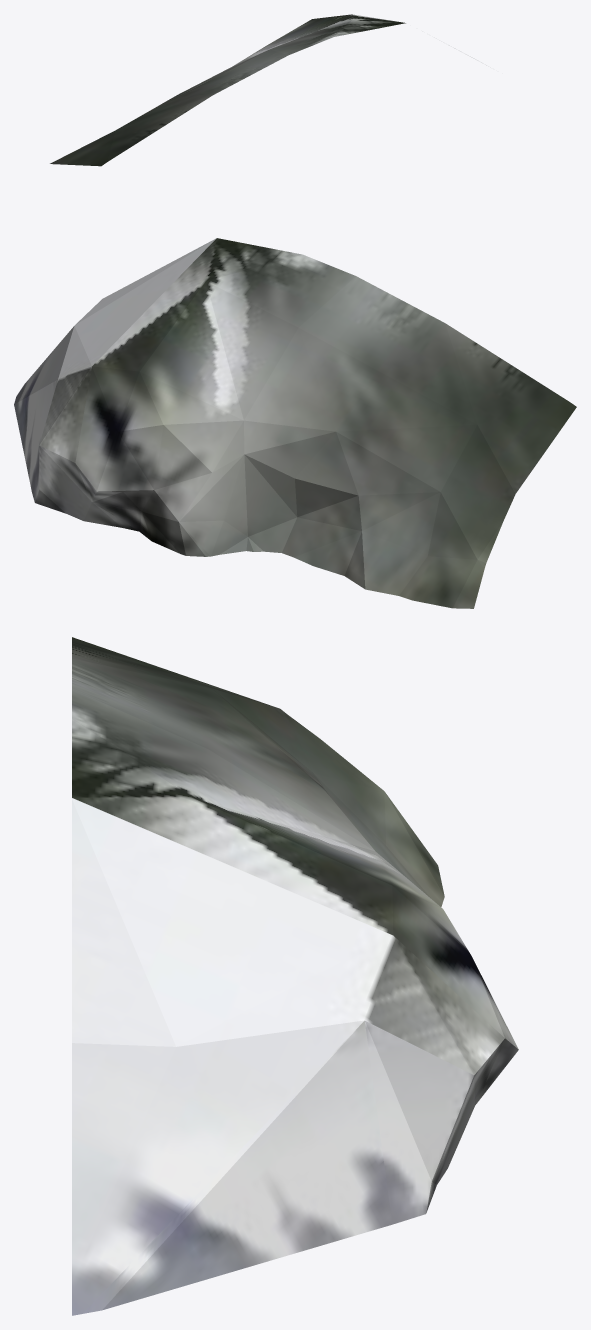
3 views of the same model, one above another, from view 1: azimuth 30°, elevation 25°; view 2: azimuth 150°, elevation 25°; view 3: azimuth 270°, elevation 25° (orthographic). The views are drawn at different scales.
Size of the model in its own units: 1.24 by 0.4497 by 0.5064.
1 material, 1 textured.
